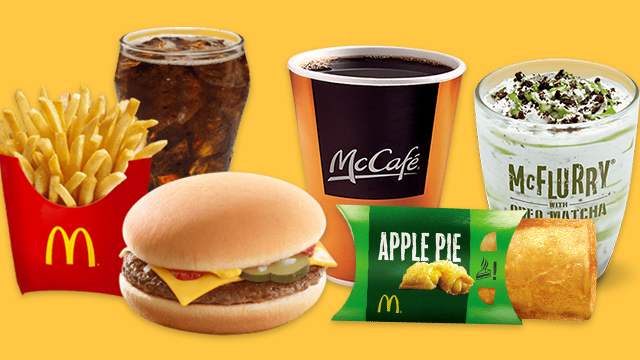mcdonalds: (45, 221, 108, 270), (372, 290, 413, 315)
